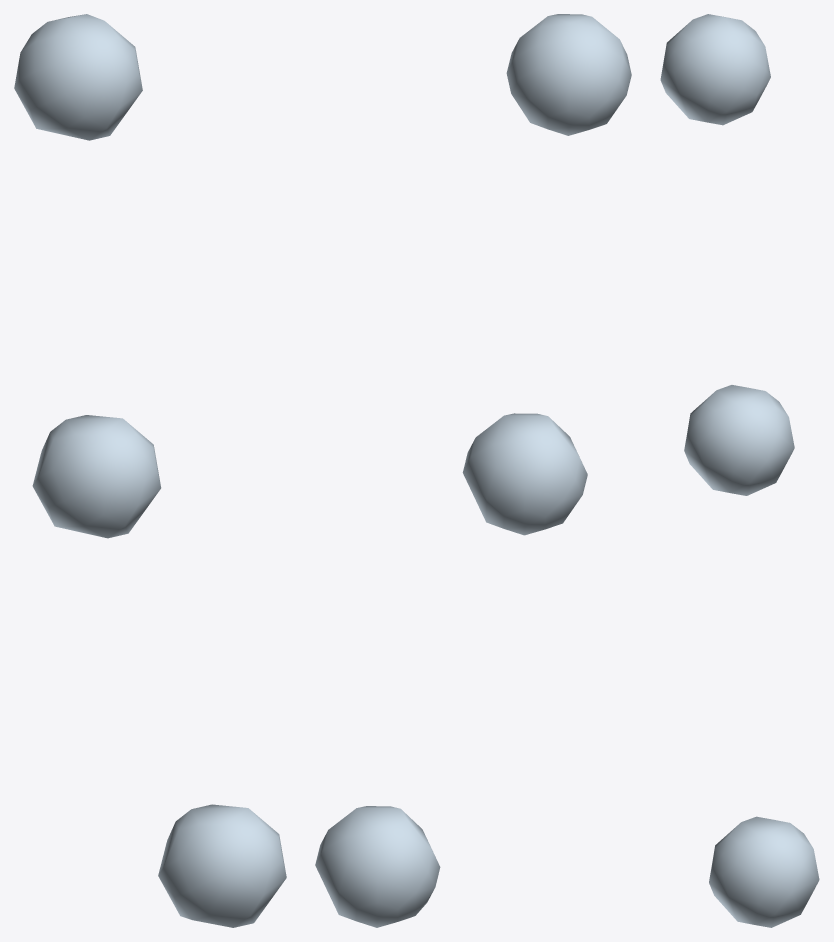
Rendered from linfatico-pretracheal-nodes-l.glb.
The picture shows the model from 3 angles, left to right: view 1: azimuth 30°, elevation 25°; view 2: azimuth 150°, elevation 25°; view 3: azimuth 270°, elevation 25°; orthographic projection. The views are drawn at different scales.
Parts seen in each view (by area): view 1: Pretracheal nodes.l; view 2: Pretracheal nodes.l; view 3: Pretracheal nodes.l.
Boxes of the visible parts, x1=… form: Pretracheal nodes.l: x1=14, y1=14, x2=286, y2=927; Pretracheal nodes.l: x1=315, y1=14, x2=631, y2=927; Pretracheal nodes.l: x1=660, y1=14, x2=819, y2=927.
Size of the model in its own units: 0.0065 by 0.0212 by 0.00367.
